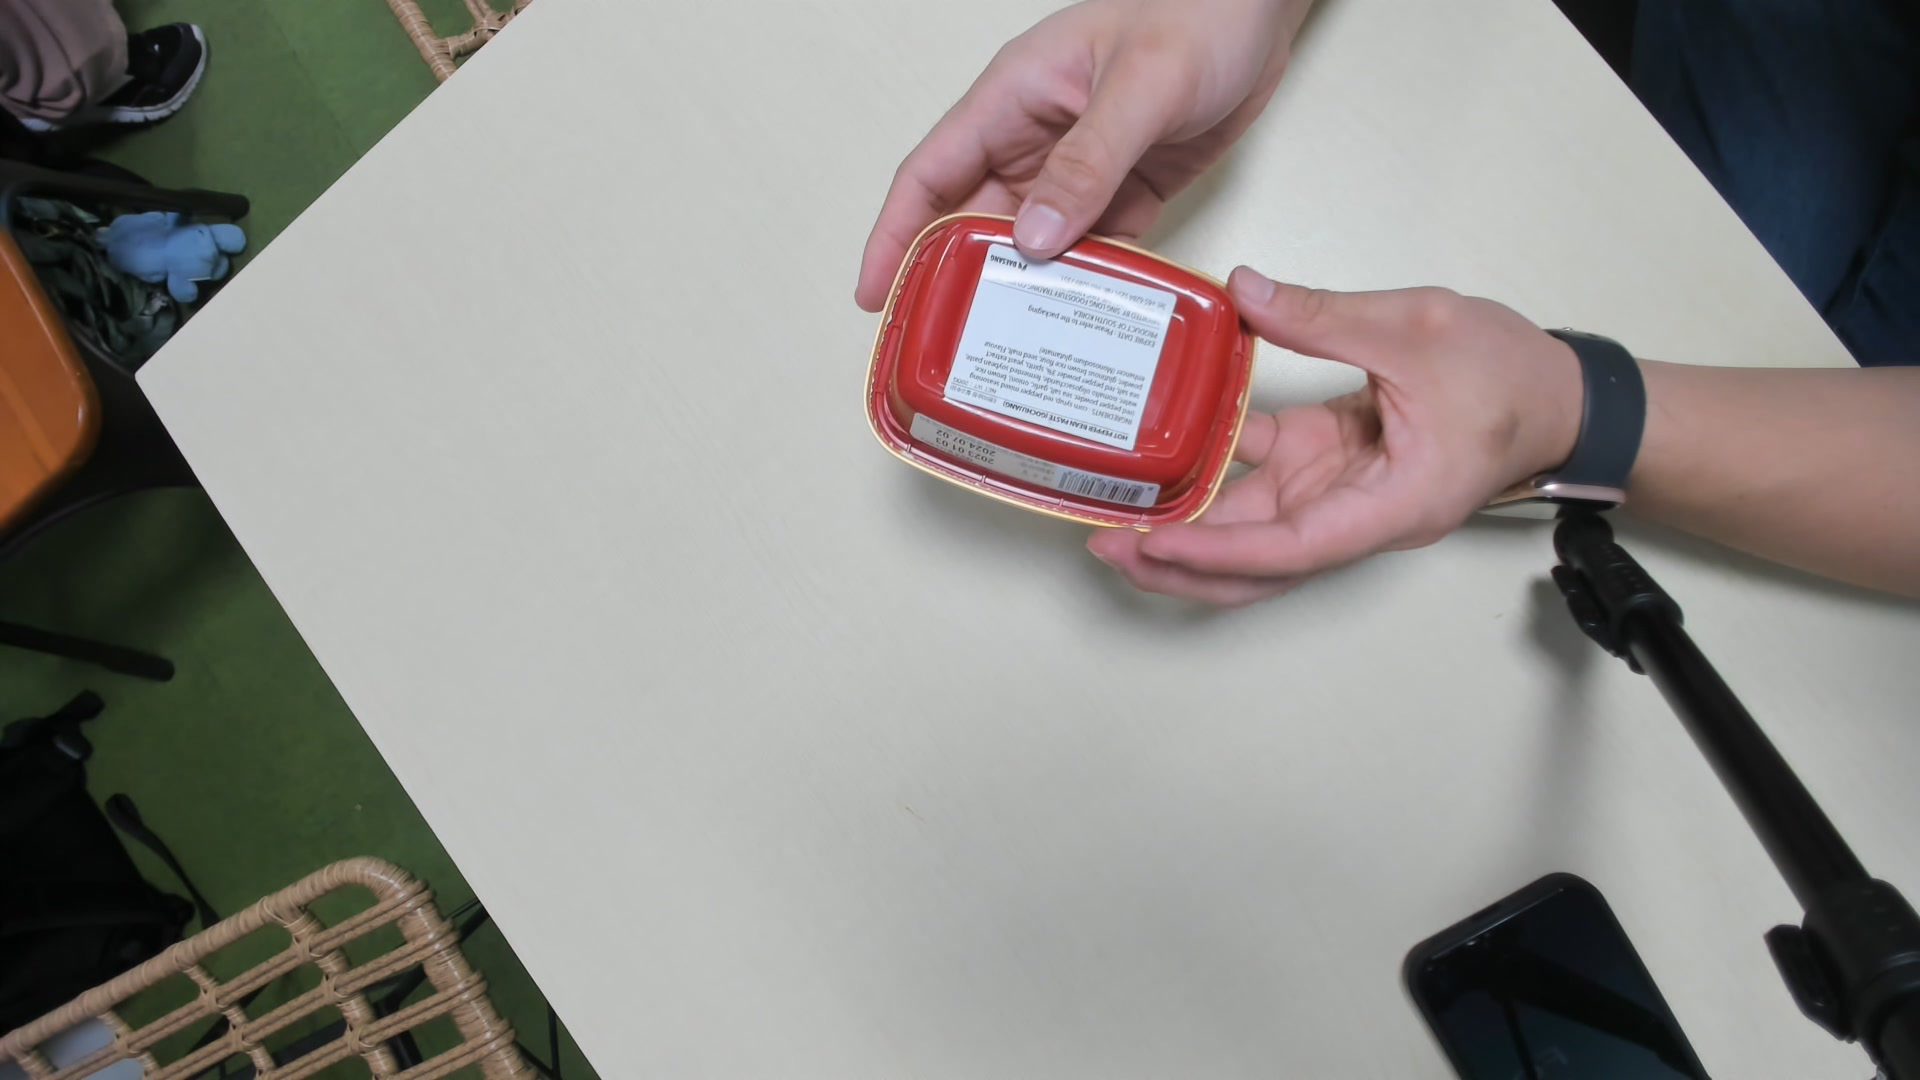OtherSauceDressing_200-299g_NonHalal_NonHealthy: (860, 206, 1249, 534)
